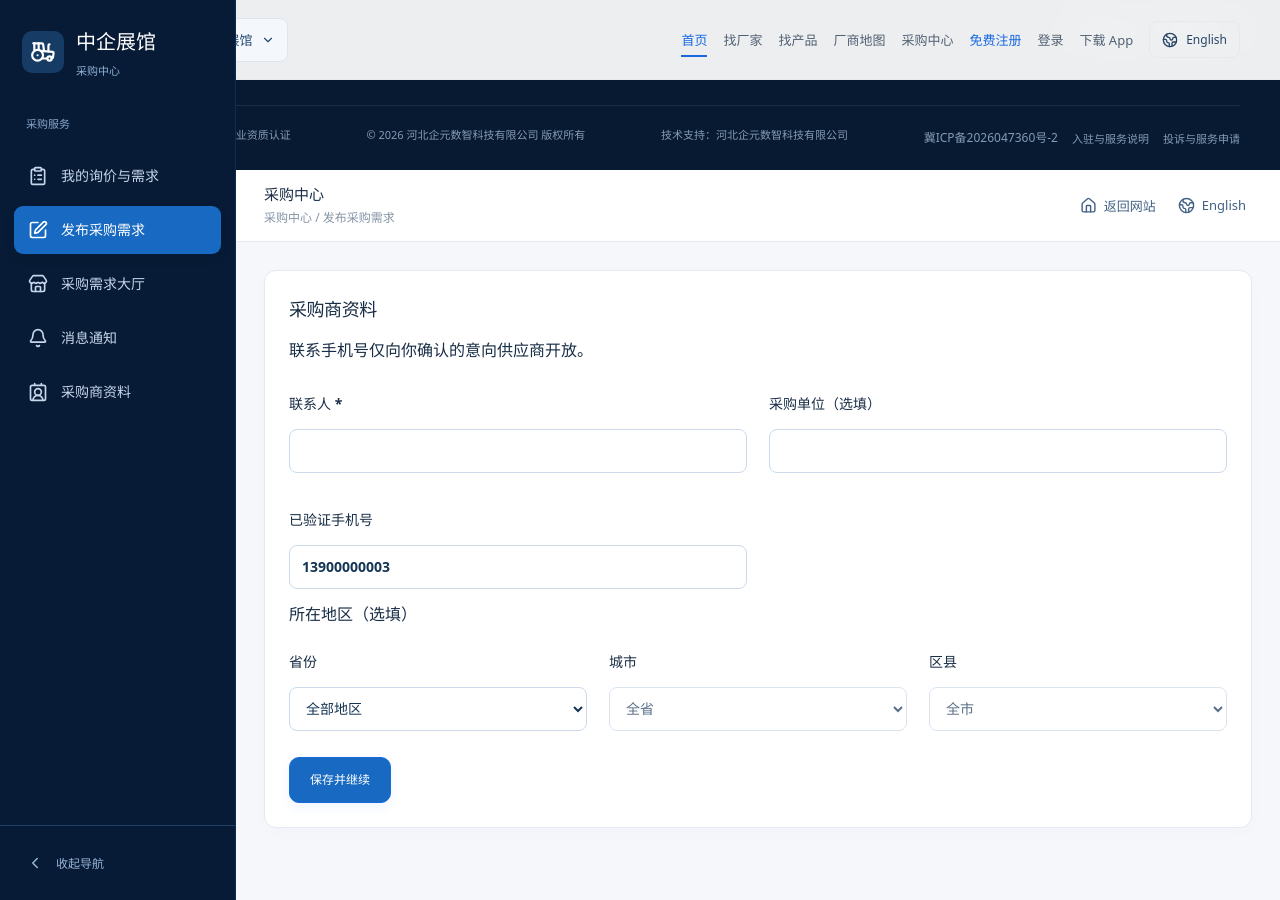
adds a buyer profile to the signed-in company account and continues the original product inquiry
(page scrolled)
In the field labelled "联系人 *": coordinates (518, 450) [289,428,747,472], type "原账号采购员"
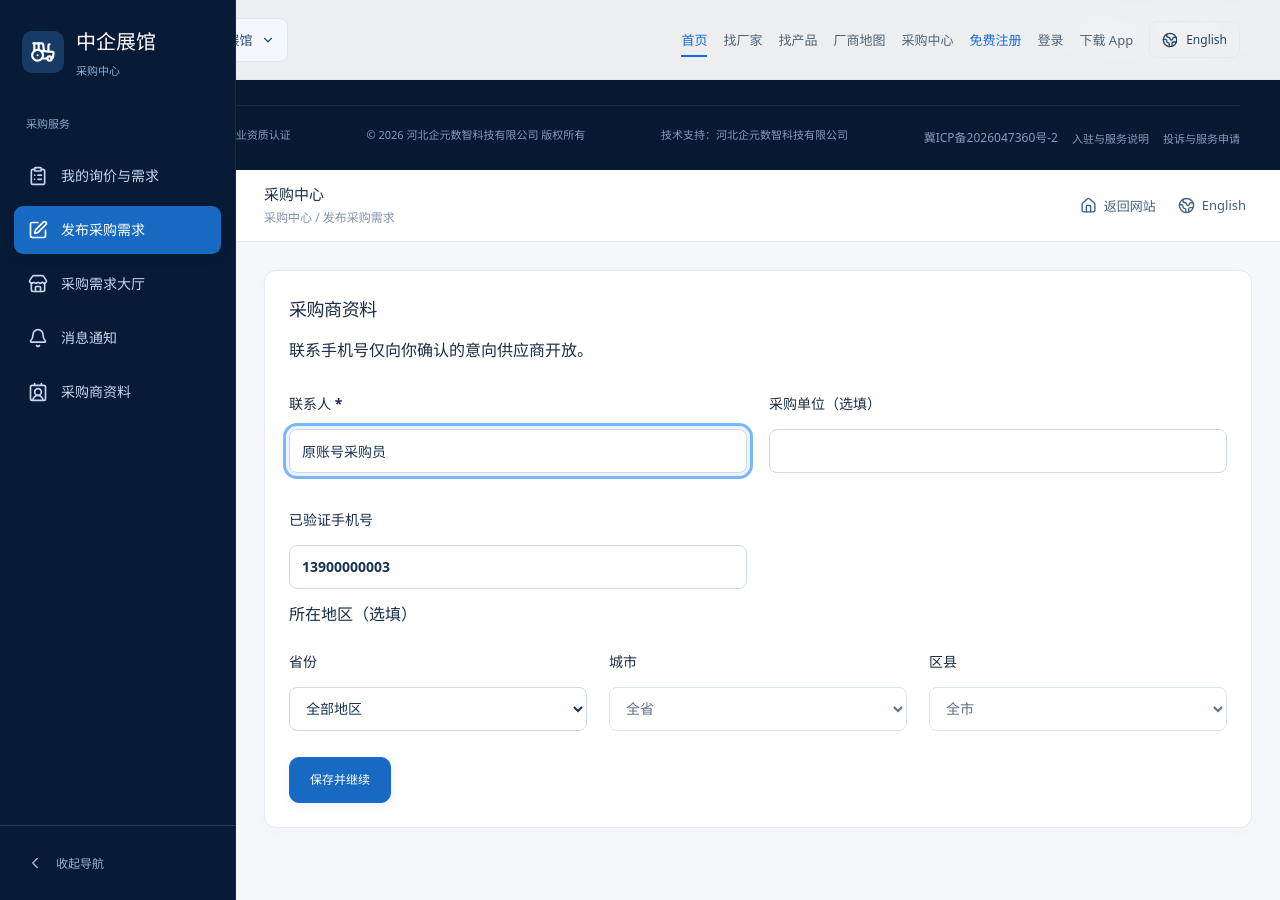
Click the button "保存并继续": coordinates (340, 780) [289,756,391,802]
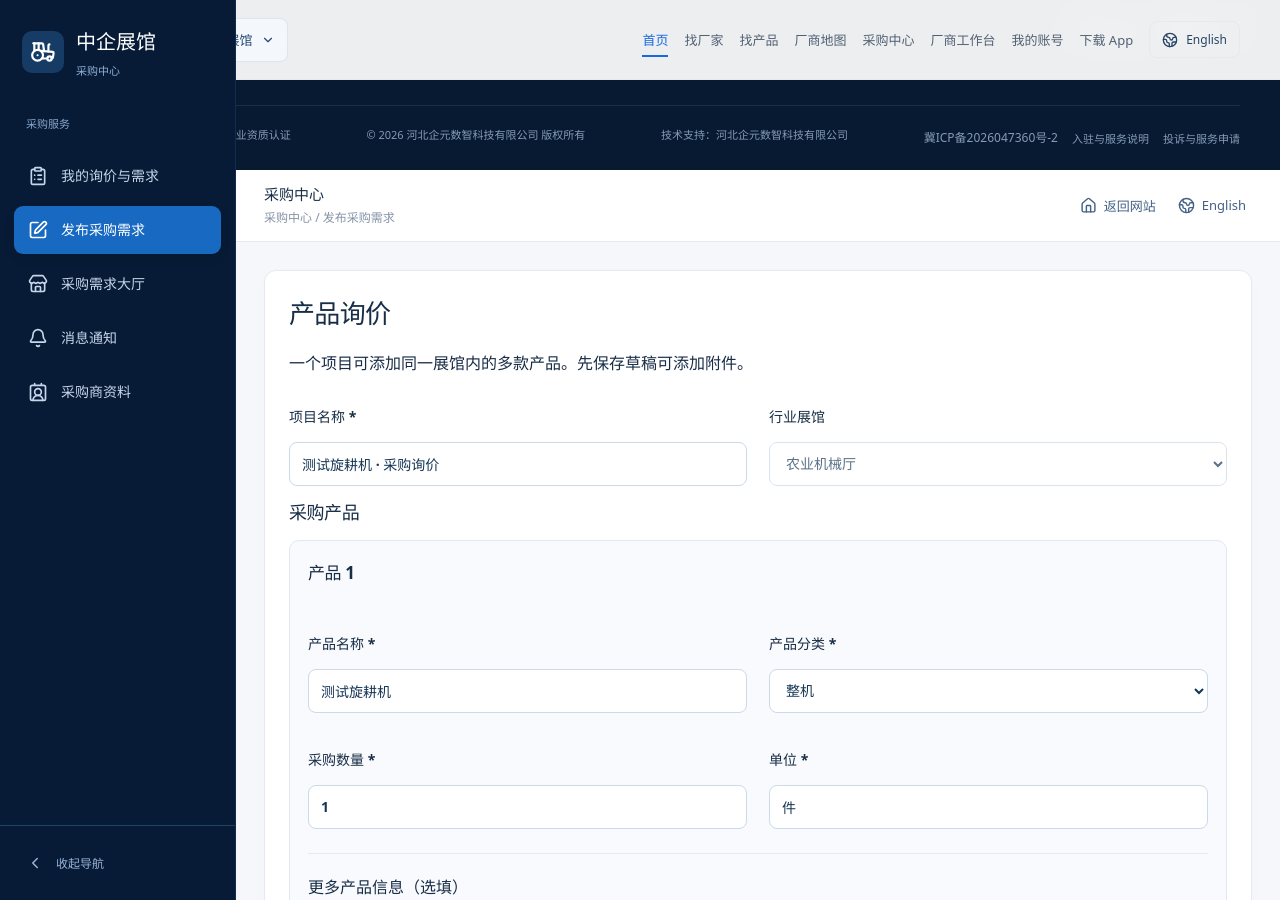
Check: the heading "产品询价" is shown, box [289,295,390,331]
Check: the field showing "测试旋耕机" is shown, box [308,669,747,713]
